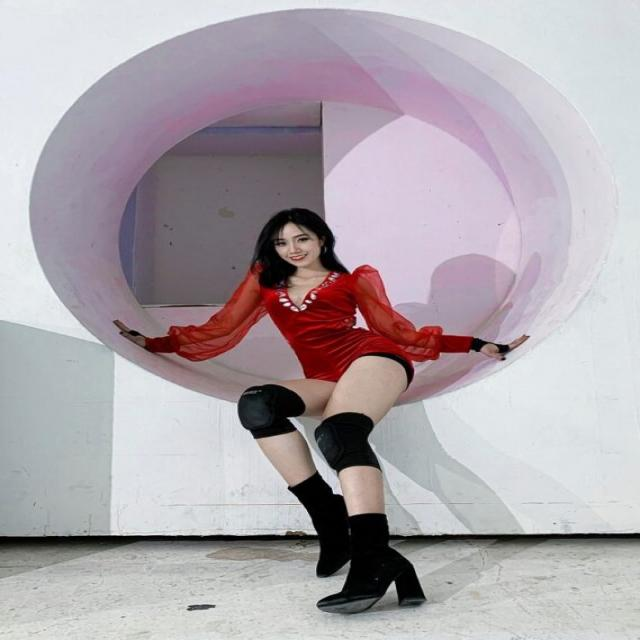clothes: (148, 252, 469, 613)
